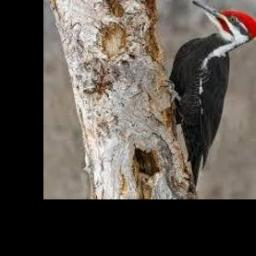Woodpecker: (168, 0, 256, 189)
